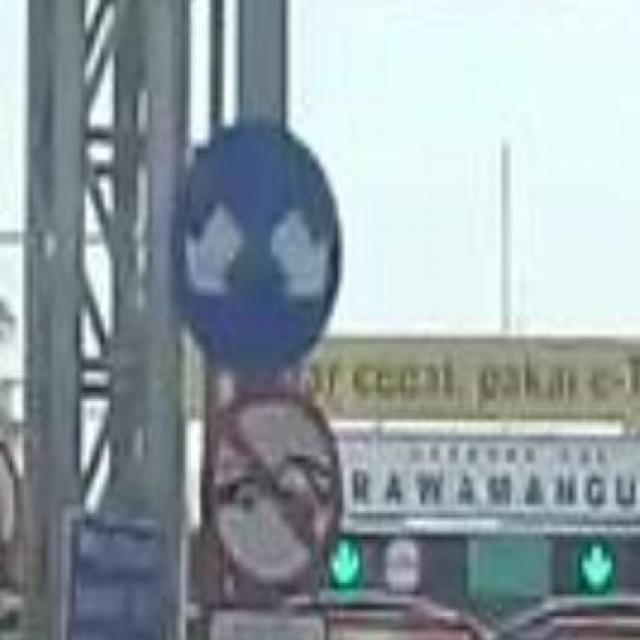traffic sign: (176, 121, 340, 382)
